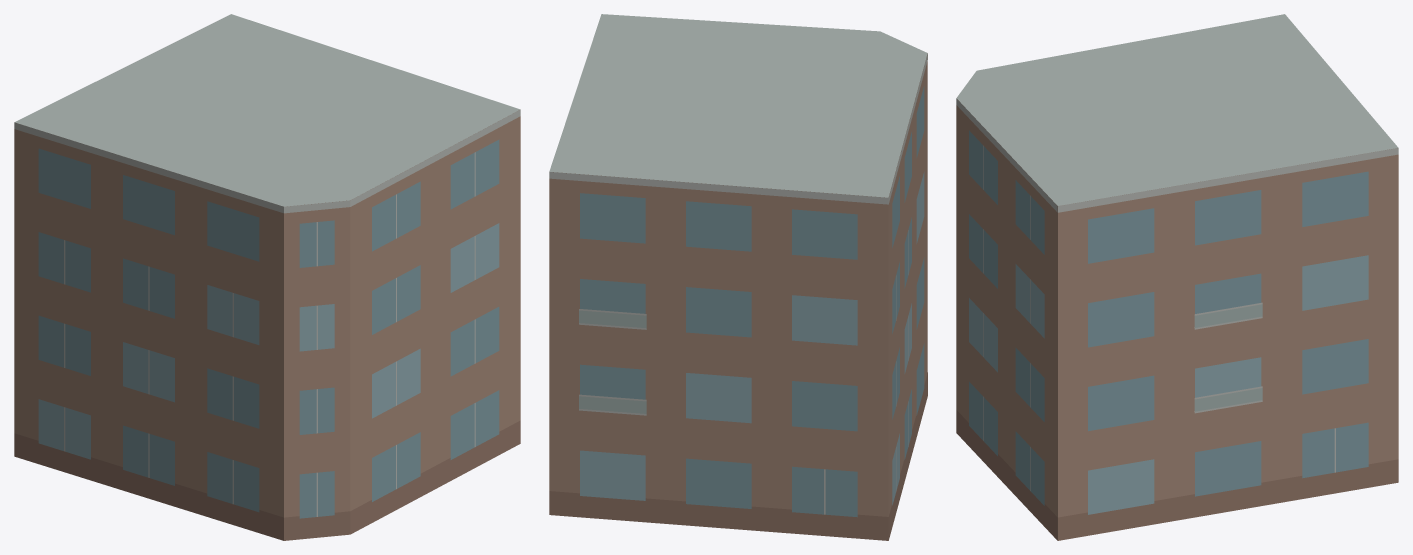
File: residential-2ff759b0-a405-45aa-ac88-9b6294a91011.glb
3 renders of one model, left to right at view 1: azimuth 30°, elevation 25°; view 2: azimuth 150°, elevation 25°; view 3: azimuth 270°, elevation 25°, orthographic. The views are drawn at different scales.
Parts seen in each view (by area): view 1: residential-2ff759b0-a405-45aa-ac88-9b6294a91011.tmp; view 2: residential-2ff759b0-a405-45aa-ac88-9b6294a91011.tmp; view 3: residential-2ff759b0-a405-45aa-ac88-9b6294a91011.tmp.
Part boxes in pixels (bbox=[...]): residential-2ff759b0-a405-45aa-ac88-9b6294a91011.tmp: bbox=[14, 14, 520, 540]; residential-2ff759b0-a405-45aa-ac88-9b6294a91011.tmp: bbox=[549, 14, 927, 540]; residential-2ff759b0-a405-45aa-ac88-9b6294a91011.tmp: bbox=[956, 14, 1398, 540].
Bounding box in the file's own units: 15.02 × 12.2 × 14.62.
